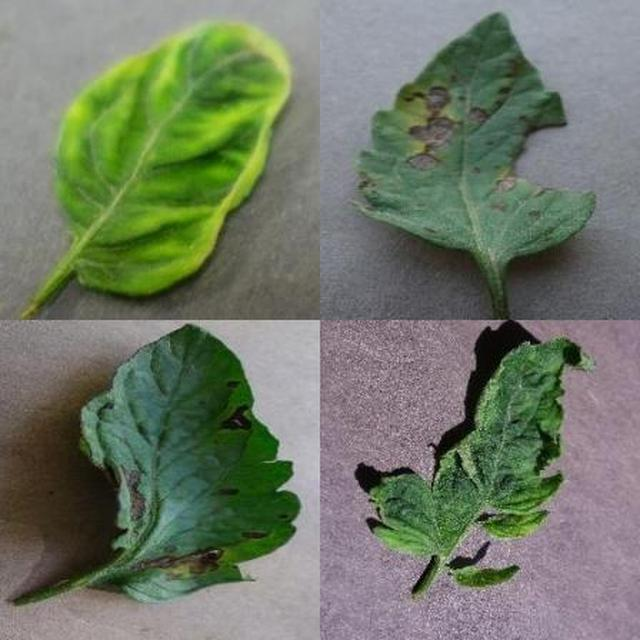Yellow Leaf Curl Virus: (250, 198, 640, 640)
